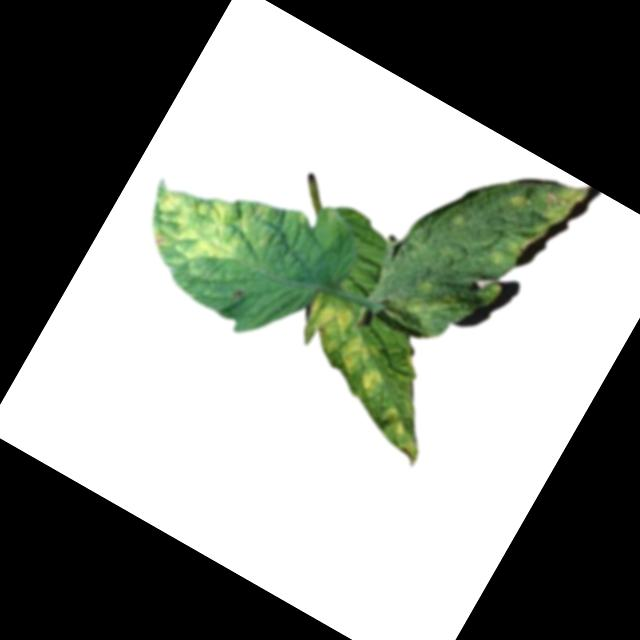Leaf_Mold: (123, 148, 283, 301), (479, 154, 594, 285), (283, 285, 409, 402), (365, 400, 435, 466)
